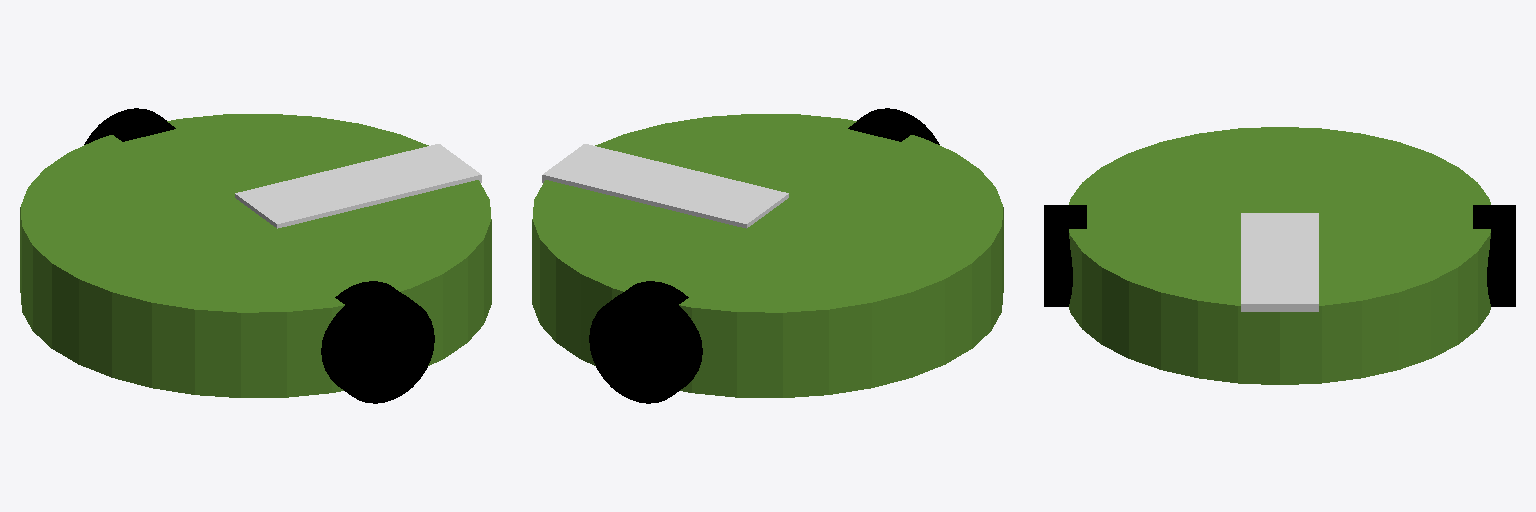
robot.urdf — simple_robot:
<?xml version="1.0"?>
<robot name="simple_robot">

  <link name="base_link">
    <visual name="base">
      <geometry>
        <cylinder length="0.1" radius="0.25"/>
      </geometry>
      <origin rpy="0 0 0" xyz="0 0 0.06"/>
      <material name="green">
        <color rgba="0.41 0.61 0.24 1"/>
      </material>
    </visual>

        <!-- Right wheel -->
    <visual name="right_wheel">
      <geometry>
        <cylinder length="0.05" radius="0.06"/>
      </geometry>
      <origin rpy="1.57075 0 0" xyz="0 0.25 0.06"/>
      <material name="black">
        <color rgba="0.0 0.0 0.0 1"/>
      </material>
    </visual>

    <!-- Left wheel -->
    <visual>
      <geometry>
        <cylinder length="0.05" radius="0.06"/>
      </geometry>
      <origin rpy="1.57075 0 0" xyz="0 -0.25 0.06"/>
      <material name="black">
        <color rgba="0.0 0.0 0.0 1"/>
      </material>
    </visual>

    <!-- Stripe -->
    <visual>
      <geometry>
        <box size="0.25 0.09 0.01"/>
      </geometry>
      <origin rpy="0 0 0" xyz="0.125 0 0.11"/>
      <material name="white">
              <color rgba="0.9 0.9 0.9 1"/>
      </material>
    </visual>
  </link>

</robot>

--- Render facts (derived) ---
The picture shows the robot from 3 angles, left to right: view 1: azimuth 30°, elevation 25°; view 2: azimuth 150°, elevation 25°; view 3: azimuth 270°, elevation 25°; orthographic projection.
Robot: simple_robot — 1 links, 0 joints (none); root link base_link; default pose: every joint at zero.
Links seen in each view (by area): view 1: base_link; view 2: base_link; view 3: base_link.
Boxes of the visible links, x1,y1,x2,y2 form: base_link: (20,108,491,403); base_link: (532,108,1003,403); base_link: (1044,127,1515,384).
Size in the robot's own frame: 0.5 by 0.55 by 0.12 metres.
Geometry: primitives only (box / cylinder / sphere), no mesh files.